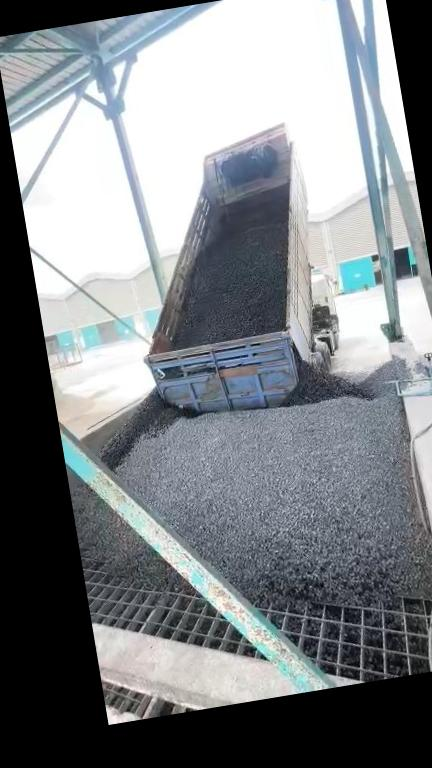gravel: (102, 355, 432, 605), (175, 212, 288, 347), (73, 484, 180, 587)
sand: (54, 383, 135, 437)
